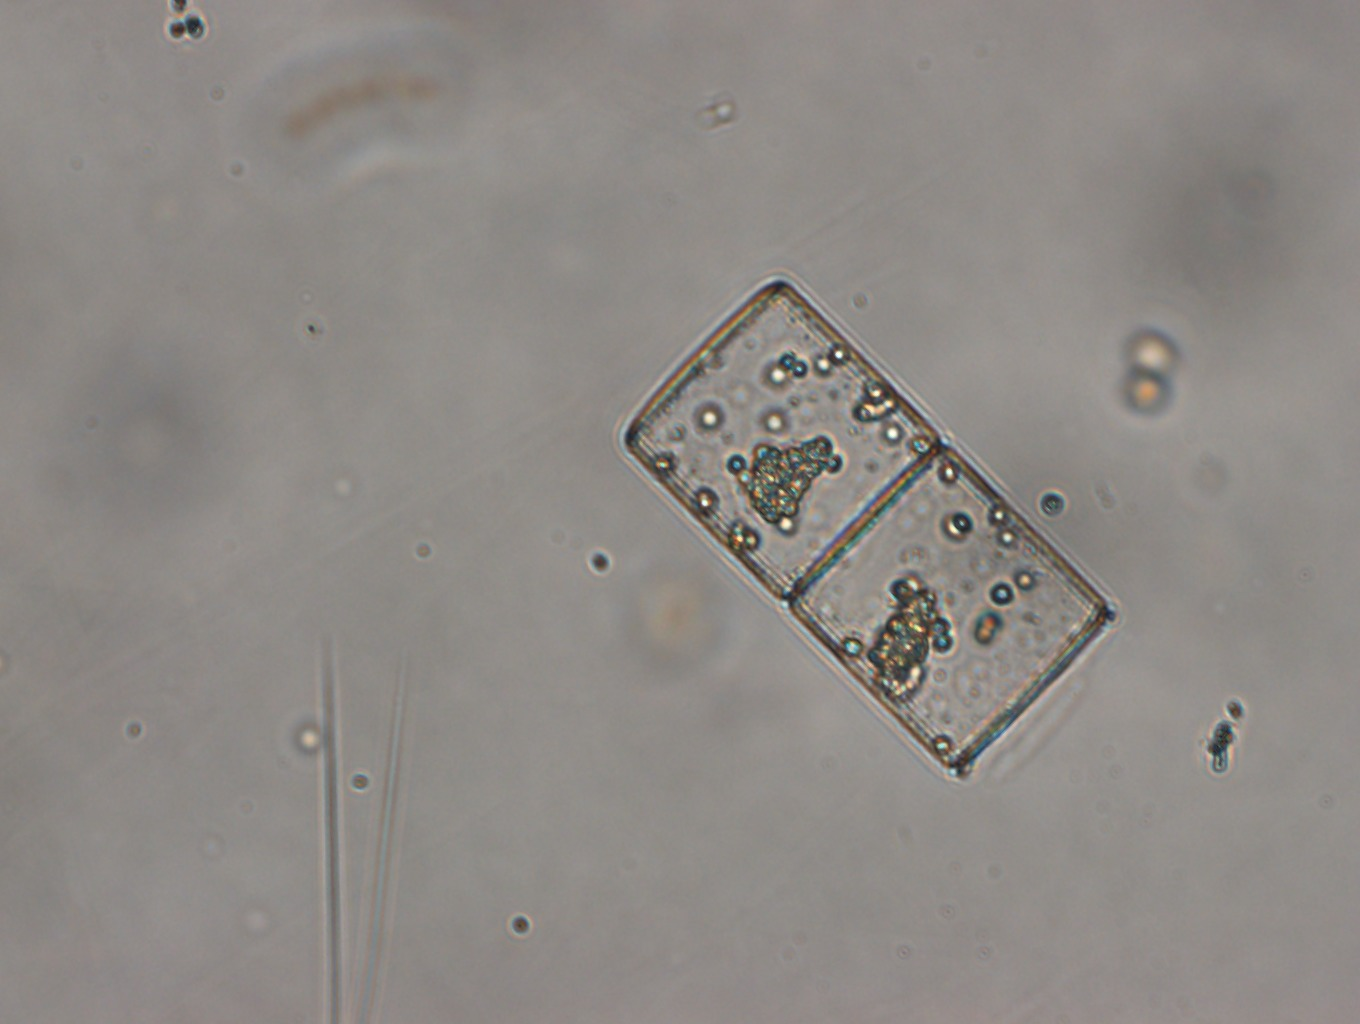guinardia flaccida: (619, 275, 1122, 781)
